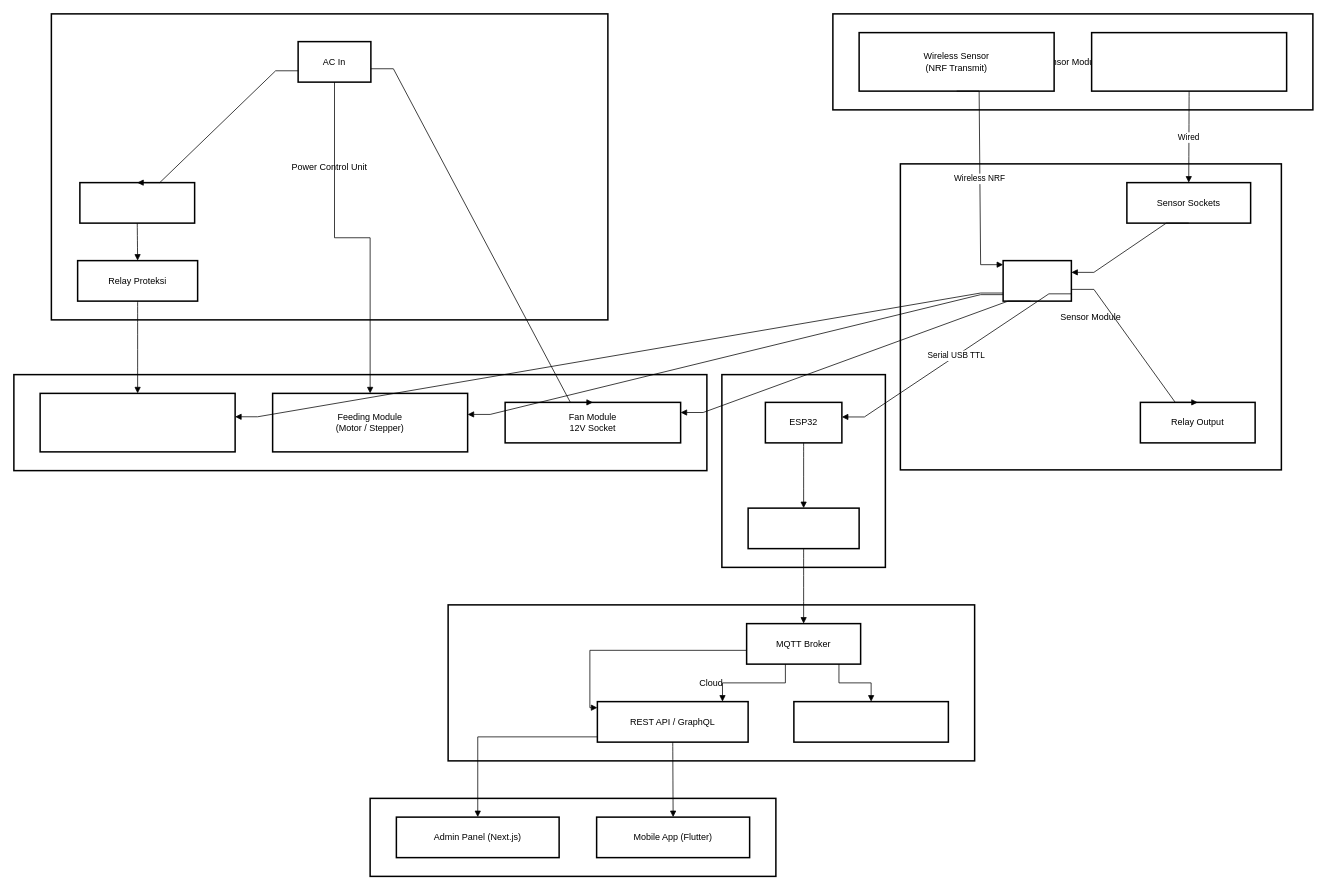
Some shapes in this 1326 by 890 pixel diagram are drawn without their labels. The box of each missing label's shape, as (x1, y1, x2, y2) in pixels:
Cloud DB / Analytics: (793, 700, 949, 742)
Frontend: (369, 797, 776, 877)
Lighting Module (LED Group, Relay, Fan): (39, 392, 236, 452)
MCU: (1002, 260, 1072, 302)
MCU Proteksi: (79, 182, 195, 224)
MQTT Client: (747, 507, 860, 549)
Smart Control Unit: (721, 374, 886, 568)
Wired Sensor (EEPROM: ID, type, loc): (1090, 32, 1287, 92)
